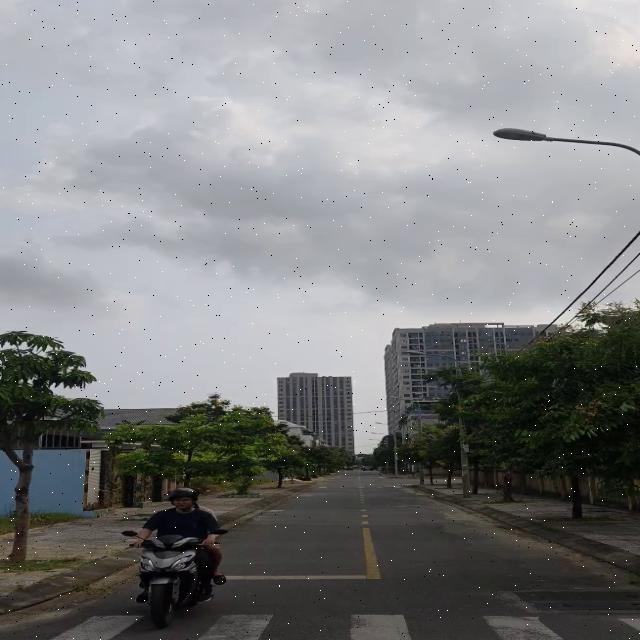helmet: (167, 488, 200, 516)
